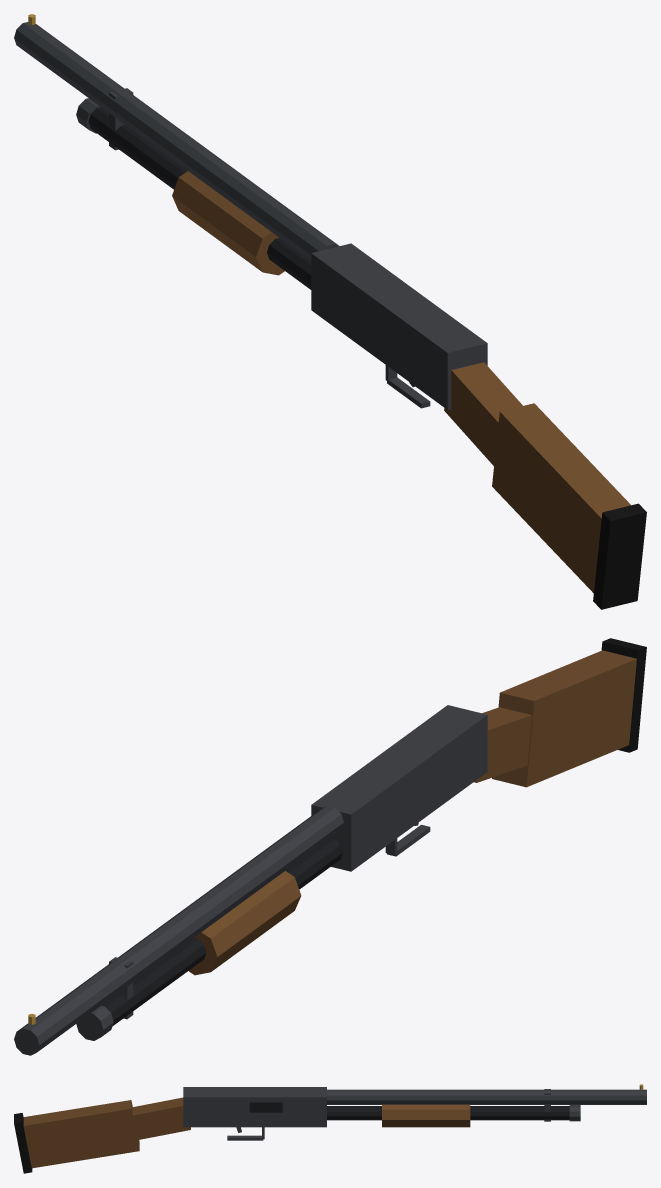
Rendered from shotgun.glb.
3 renders of one model, top to bottom at view 1: azimuth 30°, elevation 25°; view 2: azimuth 150°, elevation 25°; view 3: azimuth 270°, elevation 25°, orthographic. The views are drawn at different scales.
Parts seen in each view (by area): view 1: shotgun; view 2: shotgun; view 3: shotgun.
Part boxes in pixels (x1=…): shotgun: x1=14, y1=14, x2=646, y2=609; shotgun: x1=14, y1=638, x2=646, y2=1055; shotgun: x1=14, y1=1084, x2=646, y2=1173.
Bounding box in the file's own units: 0.05 × 0.1676 × 1.15.
